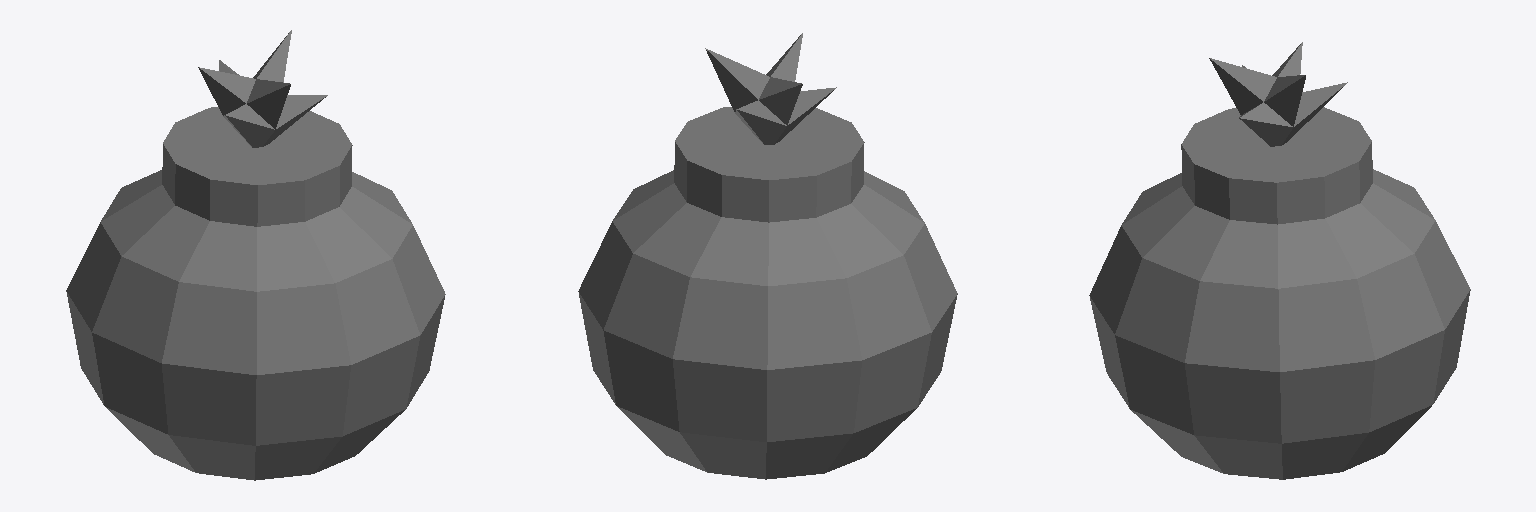
Rendered from IceBomb.obj.
3 renders of one model, left to right at view 1: azimuth 30°, elevation 25°; view 2: azimuth 150°, elevation 25°; view 3: azimuth 270°, elevation 25°, orthographic.
Visible parts, largest first — view 1: Mesh.469_DrawCall_317; view 2: Mesh.469_DrawCall_317; view 3: Mesh.469_DrawCall_317.
Boxes of the visible parts, x1=… form: Mesh.469_DrawCall_317: x1=66, y1=30, x2=445, y2=480; Mesh.469_DrawCall_317: x1=578, y1=33, x2=957, y2=479; Mesh.469_DrawCall_317: x1=1089, y1=42, x2=1470, y2=479.
Bounding box in the file's own units: 0.7975 × 0.955 × 0.8028.